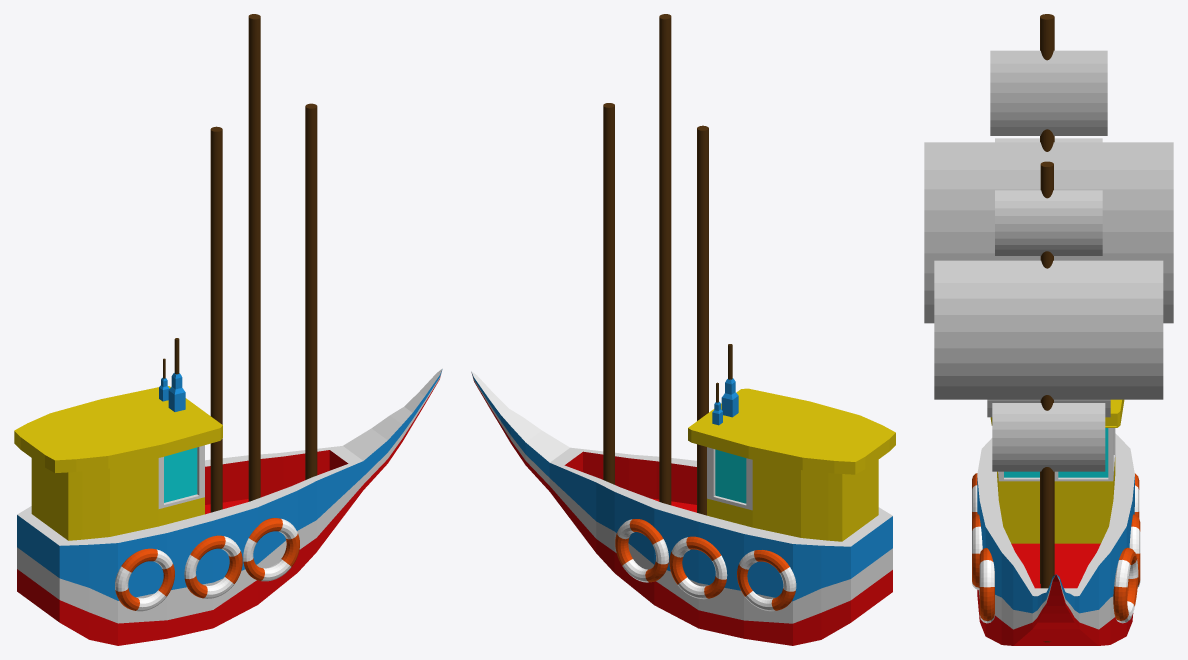
The model's file is ship1.glb.
3 views of the same model, side by side, from view 1: azimuth 30°, elevation 25°; view 2: azimuth 150°, elevation 25°; view 3: azimuth 270°, elevation 25° (orthographic). The views are drawn at different scales.
Parts seen in each view (by area): view 1: Cube, Cylinder.001, Cylinder.002, Cylinder, Torus.003, Torus.002, Torus.001, Cube.001; view 2: Cube, Cylinder.001, Cylinder.002, Cylinder, Torus.004, Torus.005, Torus.006, Cube.001; view 3: Cylinder.002, Cylinder.001, Cube, Torus.004, Torus.001, Torus.002, Torus.005, Cylinder.
Boxes of the visible parts, box(x1,y1,x2,y2) form: Cube: box(14, 368, 442, 645); Cylinder.001: box(248, 14, 260, 501); Cylinder.002: box(305, 103, 317, 479); Cylinder: box(210, 126, 222, 512); Torus.003: box(115, 548, 174, 611); Torus.002: box(184, 535, 242, 598); Torus.001: box(243, 518, 299, 581); Cube.001: box(168, 338, 185, 411); Cube: box(471, 371, 895, 645); Cylinder.001: box(659, 14, 671, 505); Cylinder.002: box(603, 103, 614, 484); Cylinder: box(697, 125, 708, 515); Torus.004: box(615, 519, 668, 582); Torus.005: box(669, 536, 727, 599); Torus.006: box(737, 550, 796, 611); Cube.001: box(721, 344, 738, 417); Cylinder.002: box(934, 161, 1163, 642); Cylinder.001: box(924, 14, 1173, 583); Cube: box(977, 399, 1134, 645); Torus.004: box(1113, 547, 1138, 623); Torus.001: box(979, 548, 994, 623); Torus.002: box(972, 514, 982, 589); Torus.005: box(1129, 514, 1140, 587); Cylinder: box(995, 138, 1102, 142).
Size of the model in its own units: 8.41 by 11.22 by 3.94.
